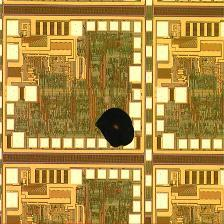PARTICLE: (95, 107, 139, 151)
